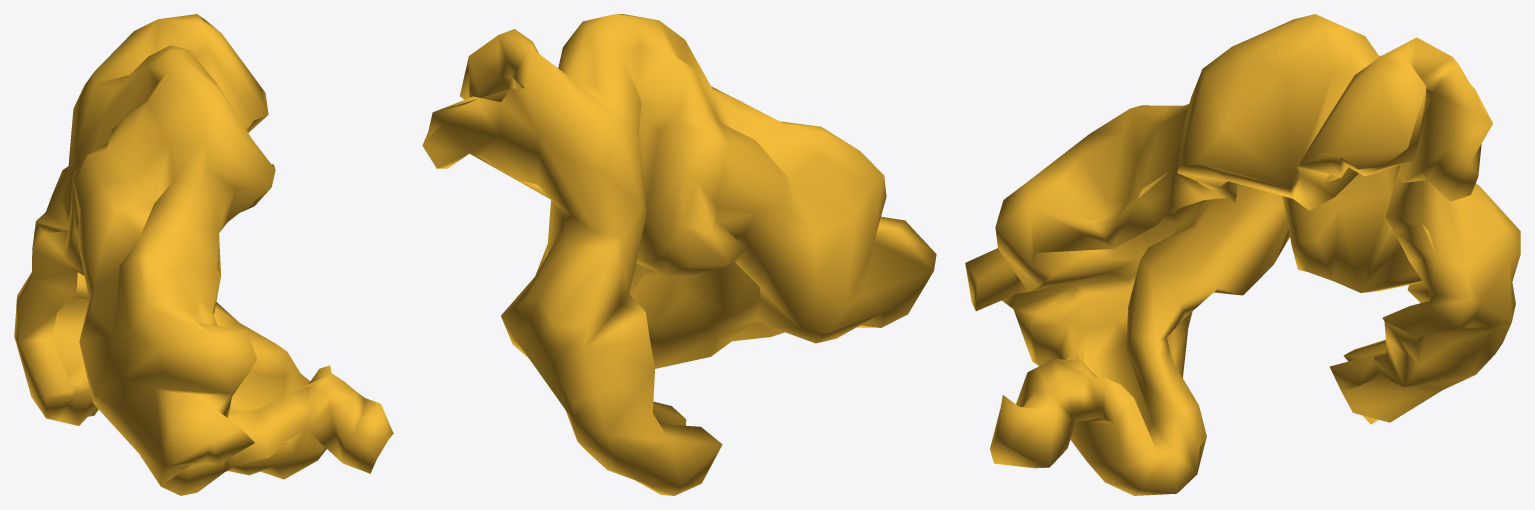
The model's file is nervoso-supramarginal-gyrus-r.glb.
3 views of the same model, side by side, from view 1: azimuth 30°, elevation 25°; view 2: azimuth 150°, elevation 25°; view 3: azimuth 270°, elevation 25° (orthographic). The views are drawn at different scales.
Parts seen in each view (by area): view 1: Supramarginal gyrus.r; view 2: Supramarginal gyrus.r; view 3: Supramarginal gyrus.r.
Part boxes in pixels (box(x1,y1,x2,y2)): Supramarginal gyrus.r: box(14, 14, 393, 495); Supramarginal gyrus.r: box(422, 14, 936, 495); Supramarginal gyrus.r: box(965, 14, 1520, 495).
Bounding box in the file's own units: 0.0302 × 0.044 × 0.049.
